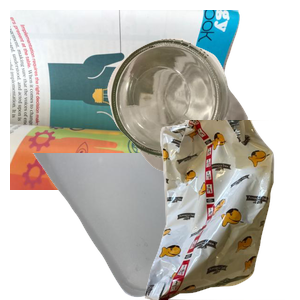glass: (105, 36, 300, 201)
paper: (10, 10, 250, 190)
plastic: (29, 153, 245, 300)
trash: (127, 120, 300, 300)
